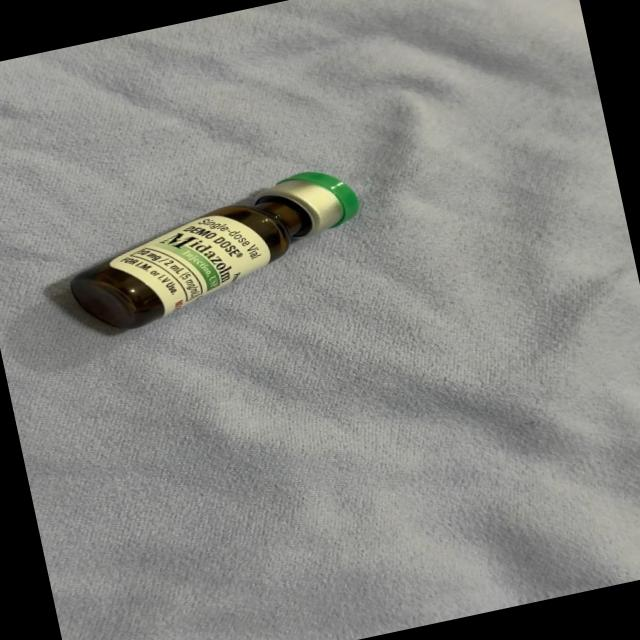midazolm: (61, 165, 369, 338)
